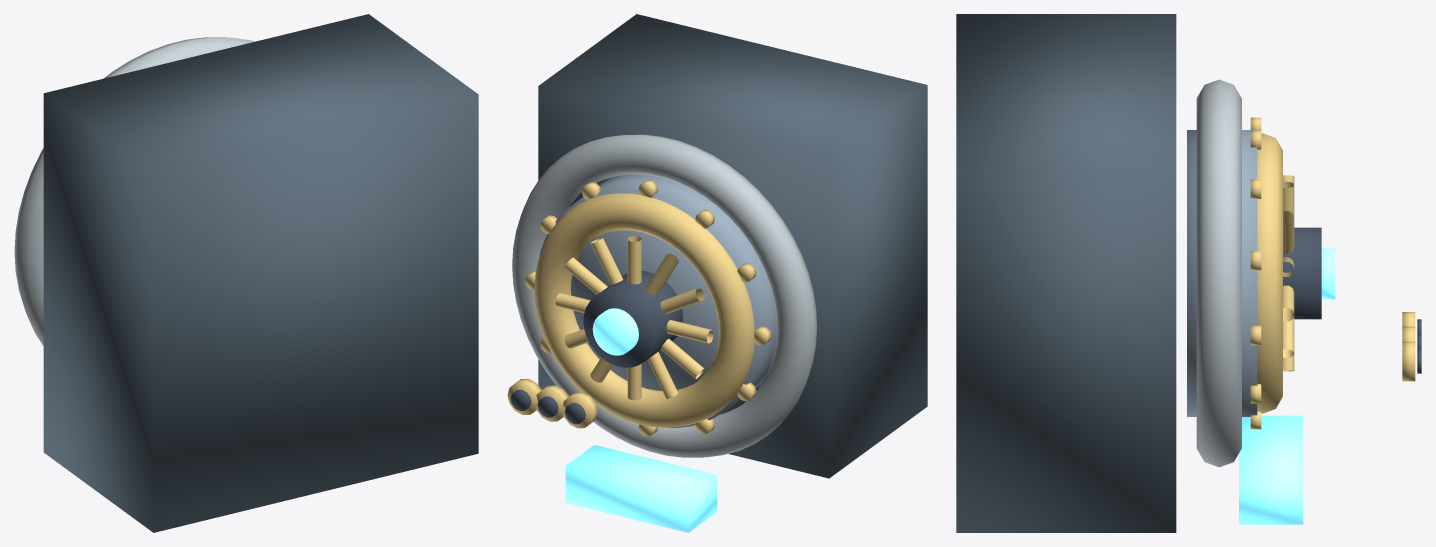
The model's file is L84_19_ReactionWheelY_Fitted.fbx.
The picture shows the model from 3 angles, left to right: view 1: azimuth 30°, elevation 25°; view 2: azimuth 150°, elevation 25°; view 3: azimuth 270°, elevation 25°; orthographic projection. The views are drawn at different scales.
Visible parts, largest first — view 1: L84_ReactionWheelY_Static__tint1C2933, L84_ReactionWheelY_Static__tint91A3AD; view 2: L84_ReactionWheelY_Static__tint1C2933, L84_ReactionWheelY_Static__tint91A3AD, L84_ReactionWheelY_ANIM_WHEEL_Y_ROTOR__tintF2B547, L84_ReactionWheelY_ANIM_WHEEL_Y_ROTOR__tint59738F, L84_ReactionWheelY_Static__tint38CCFC, L84_ReactionWheelY_ANIM_WHEEL_Y_ROTOR__tint131B26, L84_ReactionWheelY_Static__tintF2B547, L84_ReactionWheelY_ANIM_WHEEL_Y_ROTOR__tint38CCFC, L84_ReactionWheelY_Static__tint131B26; view 3: L84_ReactionWheelY_Static__tint1C2933, L84_ReactionWheelY_Static__tint91A3AD, L84_ReactionWheelY_ANIM_WHEEL_Y_ROTOR__tintF2B547, L84_ReactionWheelY_Static__tint38CCFC, L84_ReactionWheelY_ANIM_WHEEL_Y_ROTOR__tint59738F, L84_ReactionWheelY_ANIM_WHEEL_Y_ROTOR__tint131B26, L84_ReactionWheelY_Static__tintF2B547, L84_ReactionWheelY_ANIM_WHEEL_Y_ROTOR__tint38CCFC.
Part boxes in pixels (x1,y1,x2,y2): L84_ReactionWheelY_Static__tint1C2933: (43, 14, 478, 532); L84_ReactionWheelY_Static__tint91A3AD: (14, 37, 255, 345); L84_ReactionWheelY_Static__tint1C2933: (538, 14, 927, 478); L84_ReactionWheelY_Static__tint91A3AD: (512, 134, 817, 457); L84_ReactionWheelY_ANIM_WHEEL_Y_ROTOR__tintF2B547: (534, 193, 754, 427); L84_ReactionWheelY_ANIM_WHEEL_Y_ROTOR__tint59738F: (539, 174, 776, 427); L84_ReactionWheelY_Static__tint38CCFC: (565, 445, 717, 532); L84_ReactionWheelY_ANIM_WHEEL_Y_ROTOR__tint131B26: (583, 271, 682, 367); L84_ReactionWheelY_Static__tintF2B547: (507, 179, 771, 436); L84_ReactionWheelY_ANIM_WHEEL_Y_ROTOR__tint38CCFC: (592, 308, 638, 355); L84_ReactionWheelY_Static__tint131B26: (510, 389, 585, 424); L84_ReactionWheelY_Static__tint1C2933: (956, 14, 1176, 532); L84_ReactionWheelY_Static__tint91A3AD: (1196, 79, 1241, 467); L84_ReactionWheelY_ANIM_WHEEL_Y_ROTOR__tintF2B547: (1257, 133, 1294, 413); L84_ReactionWheelY_Static__tint38CCFC: (1239, 415, 1303, 524); L84_ReactionWheelY_ANIM_WHEEL_Y_ROTOR__tint59738F: (1187, 130, 1257, 416); L84_ReactionWheelY_ANIM_WHEEL_Y_ROTOR__tint131B26: (1283, 227, 1321, 319); L84_ReactionWheelY_Static__tintF2B547: (1250, 117, 1415, 429); L84_ReactionWheelY_ANIM_WHEEL_Y_ROTOR__tint38CCFC: (1321, 247, 1335, 299).
Size of the model in its own units: 12.19 by 13.78 by 14.61.
